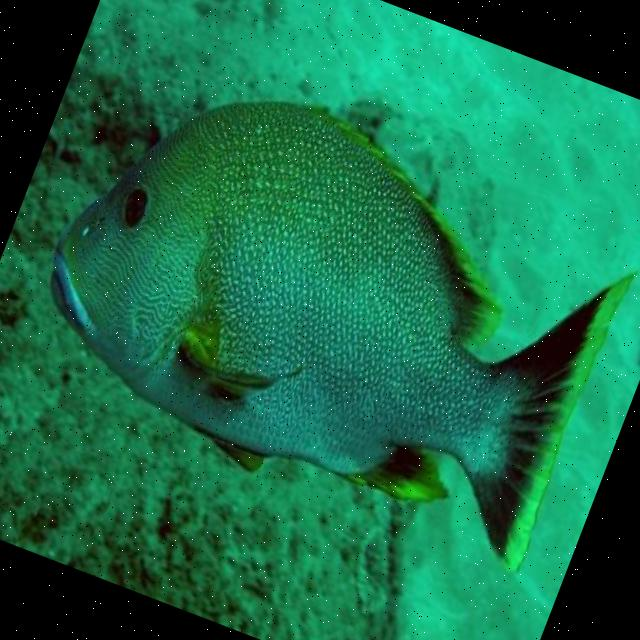ikan: (3, 30, 640, 578)
